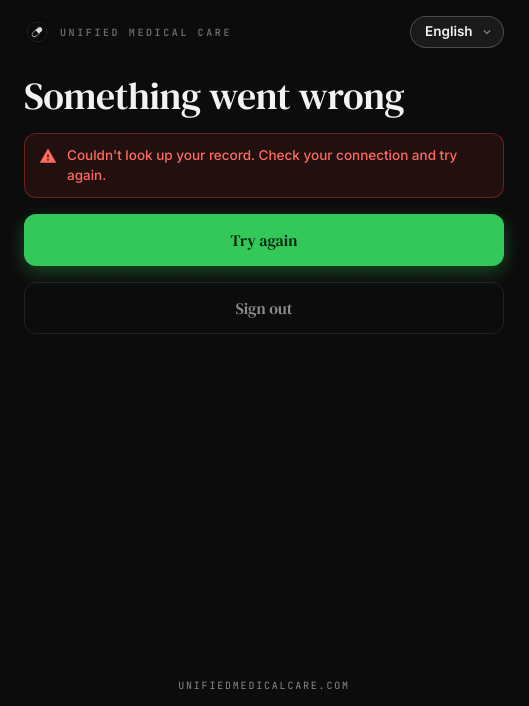
Test: RemindersPage — sign-out turns this phone off › and says why when it cannot, on that screen
This screenshot has width=529, height=706.
Check: the heading "Something went wrong" is shown, box [24, 70, 404, 122]
Click the button "Sign out" at (264, 308), box [24, 282, 504, 334]
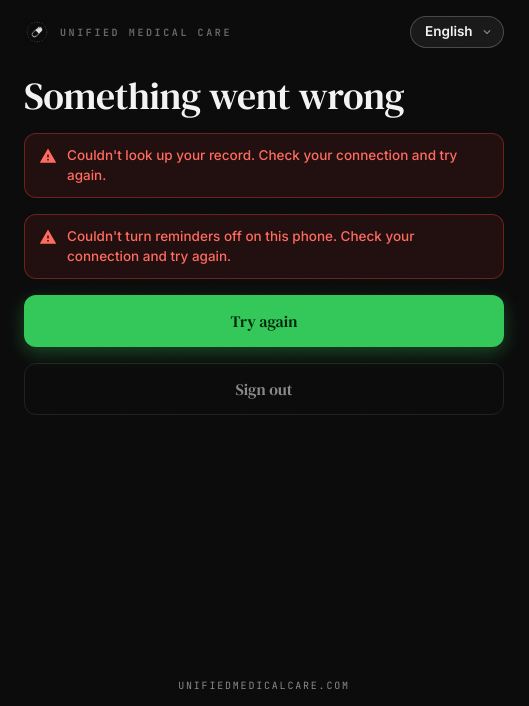
Check: the text "Couldn't turn reminders off on this phone" is shown, box [67, 228, 414, 264]
